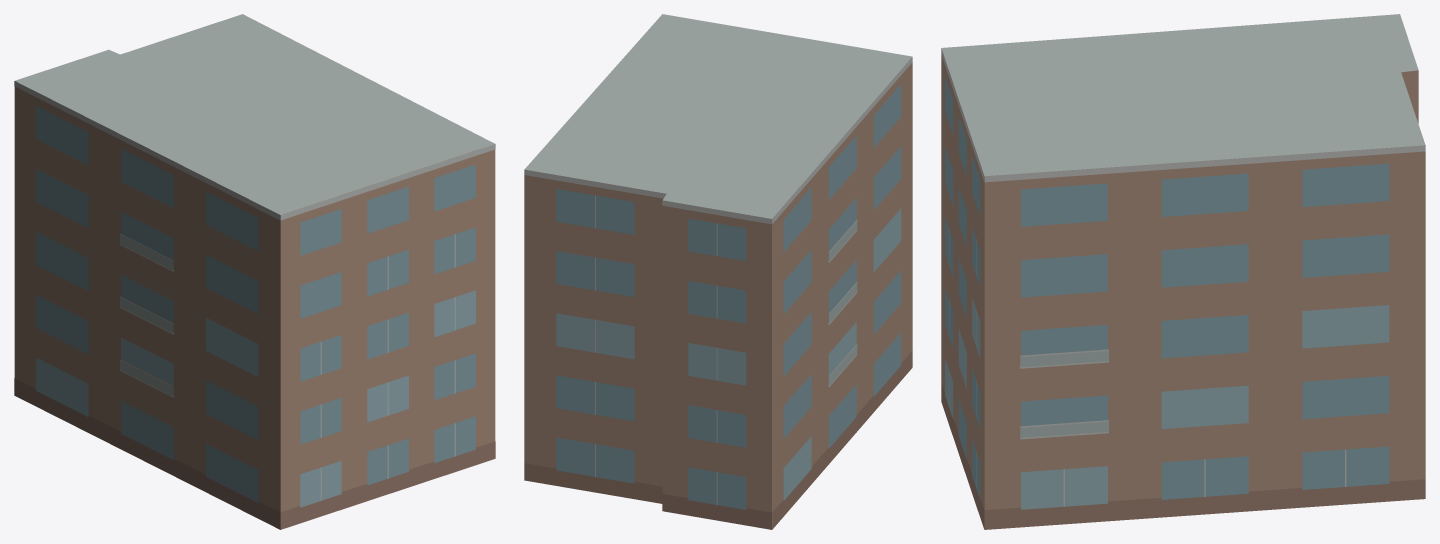
Rendered from survey-upis-32575131.glb.
The picture shows the model from 3 angles, left to right: view 1: azimuth 30°, elevation 25°; view 2: azimuth 150°, elevation 25°; view 3: azimuth 270°, elevation 25°; orthographic projection. The views are drawn at different scales.
Parts seen in each view (by area): view 1: survey-upis-32575131.tmp; view 2: survey-upis-32575131.tmp; view 3: survey-upis-32575131.tmp.
Part boxes in pixels (bbox=[...]): survey-upis-32575131.tmp: bbox=[14, 14, 495, 529]; survey-upis-32575131.tmp: bbox=[524, 14, 912, 529]; survey-upis-32575131.tmp: bbox=[941, 14, 1425, 529].
Size of the model in its own units: 13.89 by 14.1 by 17.51.
